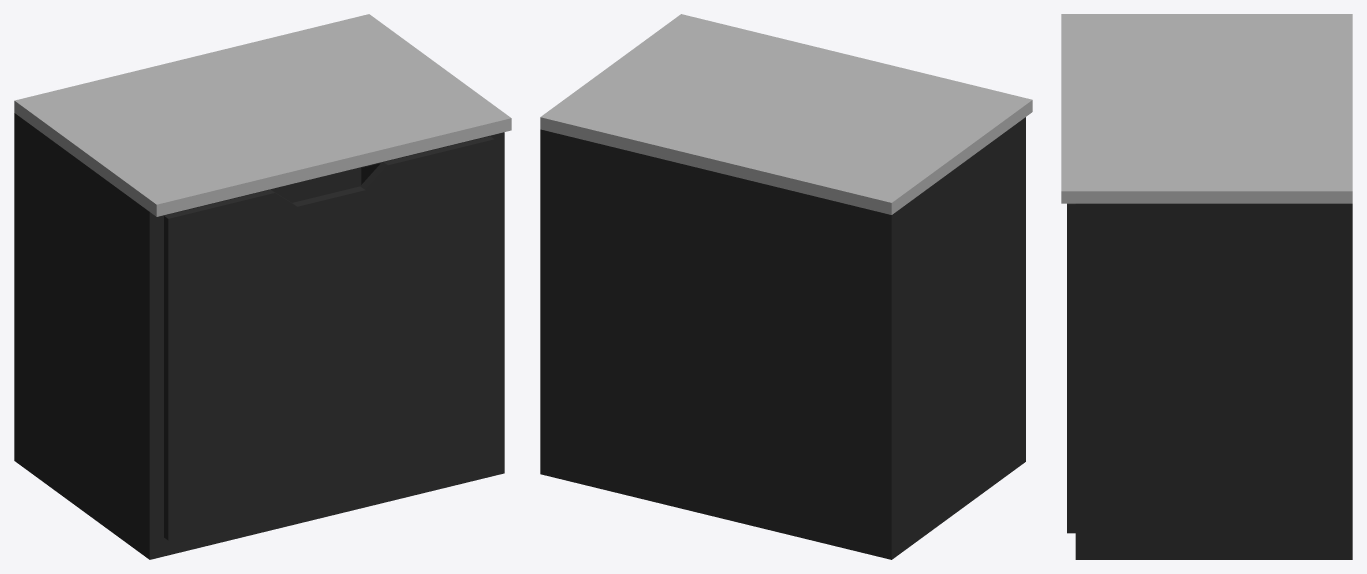
The model's file is KitchenCounter_02.fbx.
3 views of the same model, side by side, from view 1: azimuth 30°, elevation 25°; view 2: azimuth 150°, elevation 25°; view 3: azimuth 270°, elevation 25° (orthographic). The views are drawn at different scales.
Visible parts, largest first — view 1: KitchenCounter_02, KitchenCounter_02_Drawer; view 2: KitchenCounter_02; view 3: KitchenCounter_02, KitchenCounter_02_Drawer.
Boxes of the visible parts, box(x1,y1,x2,y2) form: KitchenCounter_02: box(14, 14, 511, 559); KitchenCounter_02_Drawer: box(164, 136, 494, 540); KitchenCounter_02: box(540, 14, 1032, 559); KitchenCounter_02: box(1061, 14, 1352, 559); KitchenCounter_02_Drawer: box(1067, 203, 1075, 533).
Size of the model in its own units: 1 by 0.9704 by 0.6946.
